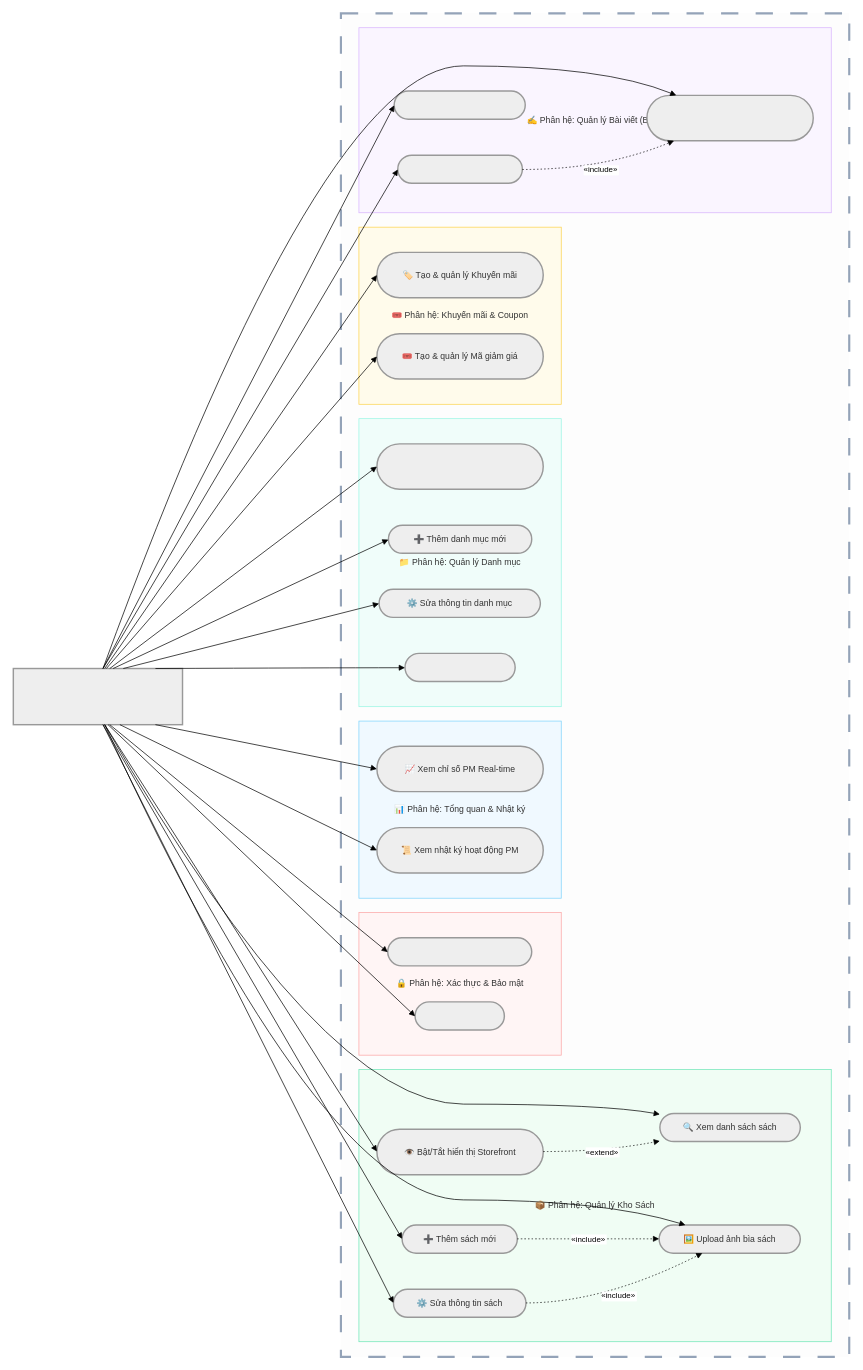
The diagram is 863 pixels wide and 1370 high, and some of its shapes have lost their labels. The centre of each missing label's shape, as x and y in pixels:
⚙️ Sửa / Xóa bài viết: the point at 459,105
👤 PRODUCT MANAGER (PM / Thủ thư): the point at 97,696
📋 Xem danh sách danh mục: the point at 460,466
📝 Viết bài viết mới: the point at 460,169
🔄 Thay đổi trạng thái bài viết: the point at 730,117
🔑 Đăng nhập Portal PM: the point at 459,951
🗑️ Xóa danh mục: the point at 460,667
🚪 Đăng xuất: the point at 459,1015
